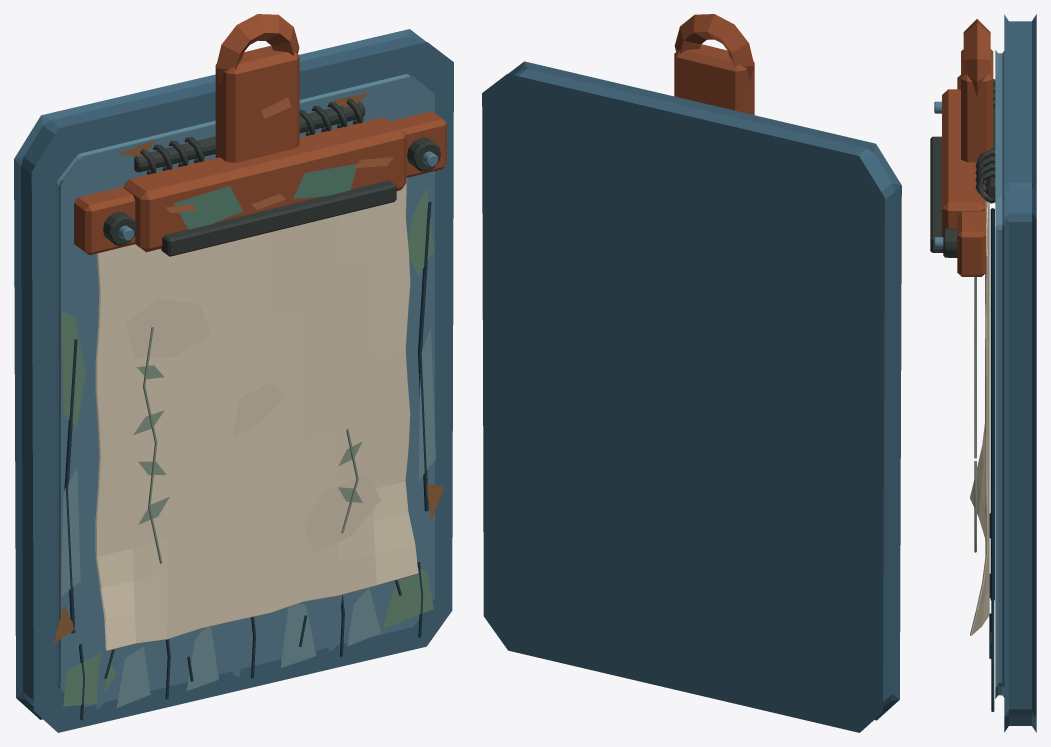
File: wooden_clipboard.glb
3 renders of one model, left to right at view 1: azimuth 30°, elevation 25°; view 2: azimuth 150°, elevation 25°; view 3: azimuth 270°, elevation 25°, orthographic. The views are drawn at different scales.
Parts seen in each view (by area): view 1: Paper_Sheet, Wooden_Board, Wooden_Inset, Clip_Main_Bar, Clip_Tab_Stem, Clip_Lower_Lip, Paper_Wash_1, Paper_Wash_2, Clip_Left_Mount, Clip_Tab_Ring, Sage_Paint_Patch_3, Blue_Stroke_Left (+21 smaller); view 2: Wooden_Board, Clip_Tab_Stem, Clip_Tab_Ring; view 3: Wooden_Board, Wooden_Inset, Clip_Main_Bar, Paper_Sheet, Clip_Tab_Stem, Clip_Right_Mount, Clip_Tab_Ring, Right_Wood_Grain, Clip_Lower_Lip, Clip_Right_Spring, Left_Wood_Grain, Paper_Left_Botanical_Stem (+4 smaller).
Boxes of the visible parts, x1,y1,x2,y2 form: Paper_Sheet: (95, 178, 418, 651); Wooden_Board: (14, 29, 453, 732); Wooden_Inset: (56, 74, 434, 707); Clip_Main_Bar: (123, 117, 406, 252); Clip_Tab_Stem: (215, 45, 299, 162); Clip_Lower_Lip: (161, 180, 396, 256); Paper_Wash_1: (125, 298, 211, 357); Paper_Wash_2: (304, 473, 380, 553); Clip_Left_Mount: (74, 186, 135, 255); Clip_Tab_Ring: (216, 14, 299, 85); Sage_Paint_Patch_3: (61, 310, 85, 427); Blue_Stroke_Left: (61, 468, 80, 596); Wooden_Board: (482, 61, 901, 732); Clip_Tab_Stem: (674, 44, 754, 115); Clip_Tab_Ring: (674, 14, 754, 82); Wooden_Board: (1004, 14, 1036, 732); Wooden_Inset: (995, 50, 1004, 698); Clip_Main_Bar: (942, 89, 985, 257); Paper_Sheet: (970, 180, 989, 635); Clip_Tab_Stem: (961, 49, 993, 172); Clip_Right_Mount: (957, 210, 986, 276); Clip_Tab_Ring: (963, 19, 990, 96); Right_Wood_Grain: (990, 320, 994, 600); Clip_Lower_Lip: (930, 136, 942, 252); Clip_Right_Spring: (975, 149, 995, 203); Left_Wood_Grain: (990, 208, 994, 320); Paper_Left_Botanical_Stem: (974, 277, 976, 458).
Bounding box in the file's own units: 2.47 × 3.85 × 0.59.
